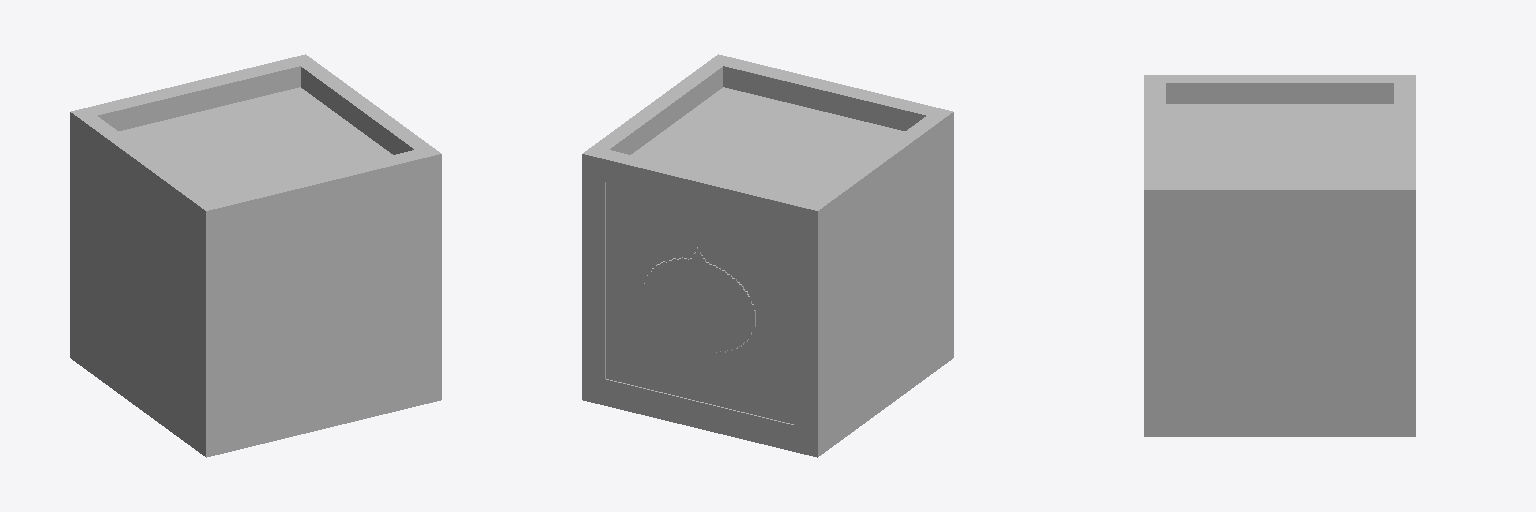
The model's file is AlmacenCebolla.obj.
3 renders of one model, left to right at view 1: azimuth 30°, elevation 25°; view 2: azimuth 150°, elevation 25°; view 3: azimuth 270°, elevation 25°, orthographic.
Parts seen in each view (by area): view 1: object 1; view 2: object 1; view 3: object 1.
Boxes of the visible parts, <box> form: object 1: <box>70,54,441,457</box>; object 1: <box>582,54,953,457</box>; object 1: <box>1144,75,1415,436</box>.
Size of the model in its own units: 17.6 by 17.6 by 17.6.